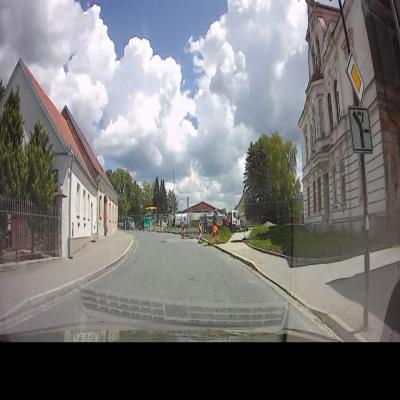clear-road: (90, 232, 282, 302)
